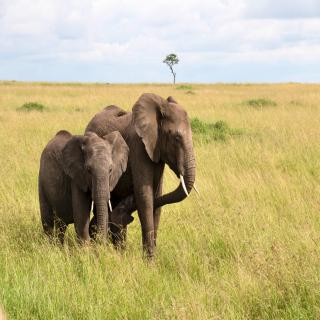Elephant: (83, 87, 204, 275), (37, 124, 130, 247)
